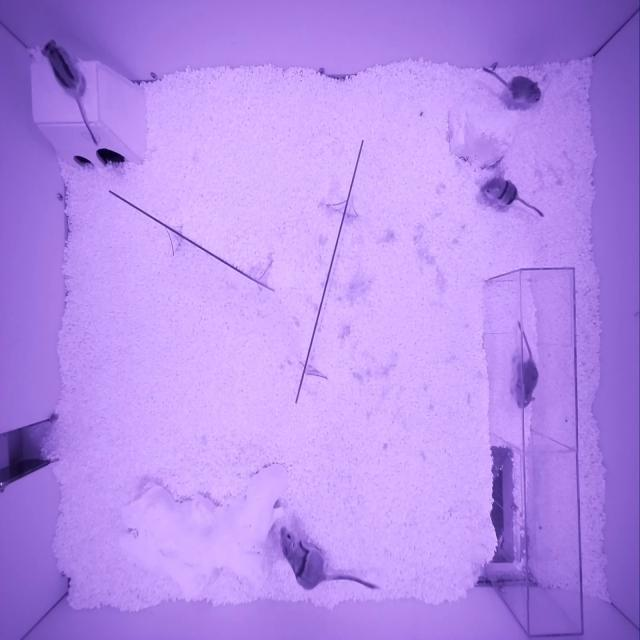adult_front: (279, 525, 326, 591)
pup_fluffy: (508, 76, 541, 103)
pup_h_stripe: (482, 177, 517, 206)
pup_spotted: (514, 359, 538, 409)
pup_v_stripe: (41, 39, 82, 93)
